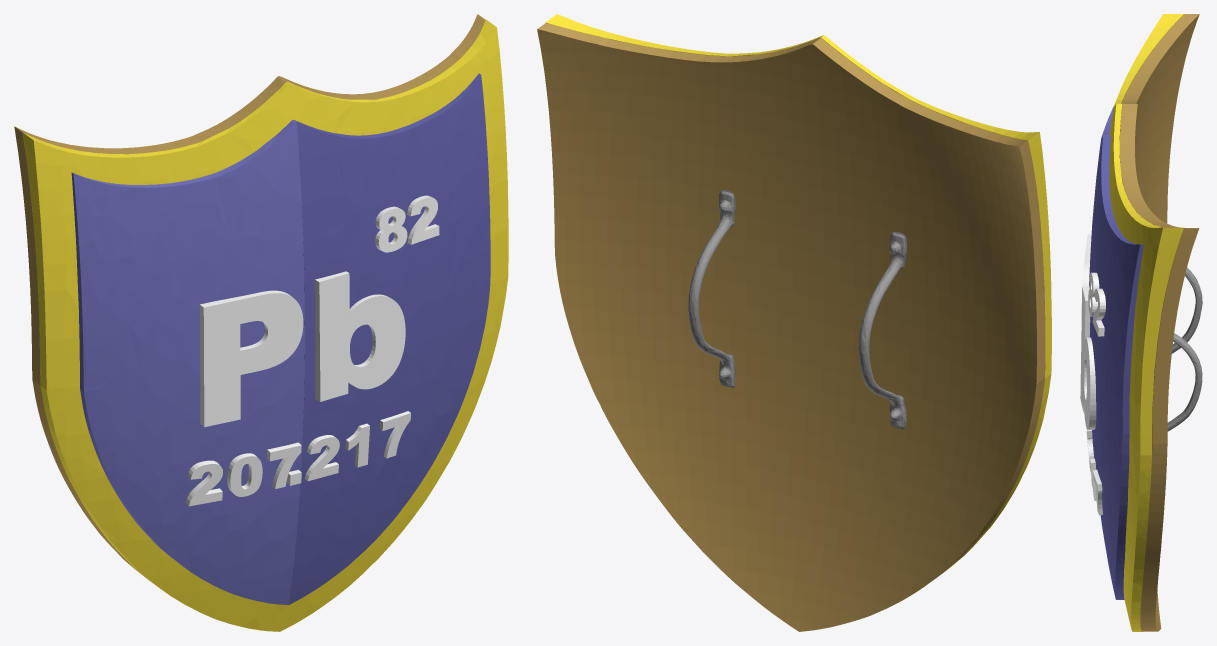
The model's file is escudo-de-chumbo.glb.
3 views of the same model, side by side, from view 1: azimuth 30°, elevation 25°; view 2: azimuth 150°, elevation 25°; view 3: azimuth 270°, elevation 25° (orthographic). The views are drawn at different scales.
Visible parts, largest first — view 1: Node4, Node6, Node10, Node8; view 2: Node4; view 3: Node4, Node6, Node8, Node10.
Boxes of the visible parts, left/top/right/bottom form: Node4: left=14, top=14, right=508, bottom=631; Node6: left=200, top=271, right=405, bottom=427; Node10: left=185, top=411, right=410, bottom=506; Node8: left=375, top=195, right=439, bottom=252; Node4: left=537, top=14, right=1051, bottom=631; Node4: left=1089, top=14, right=1202, bottom=631; Node6: left=1080, top=234, right=1096, bottom=429; Node8: left=1088, top=272, right=1105, bottom=336; Node10: left=1086, top=429, right=1103, bottom=515.
Bounding box in the file's own units: 43.72 × 50.02 × 10.55.
